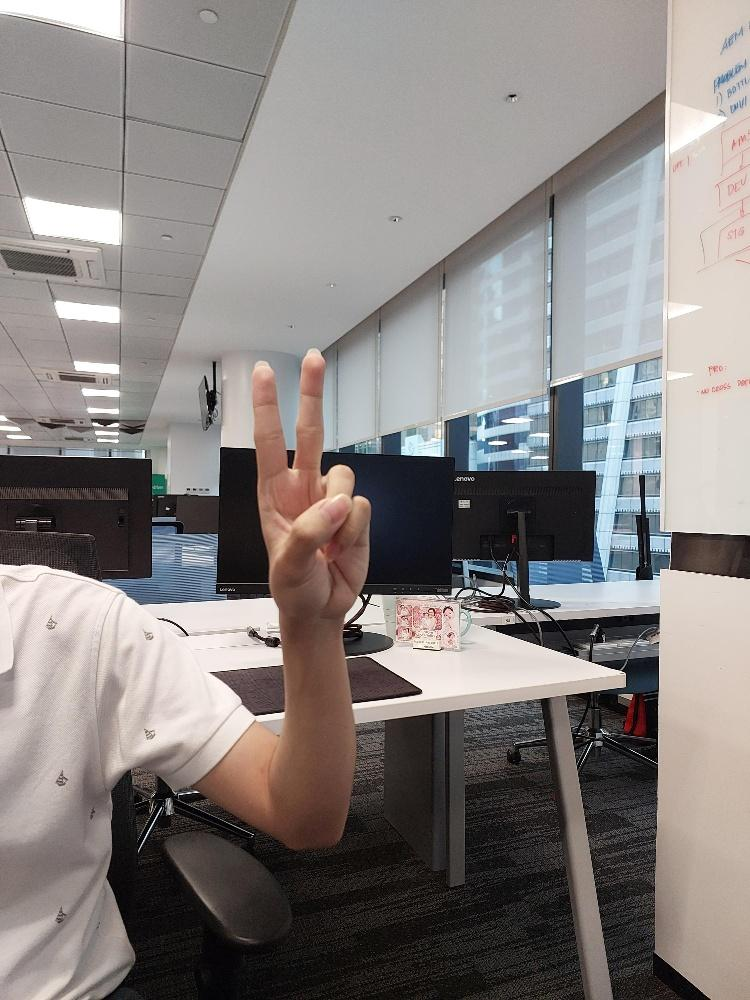v: (249, 346, 374, 629)
